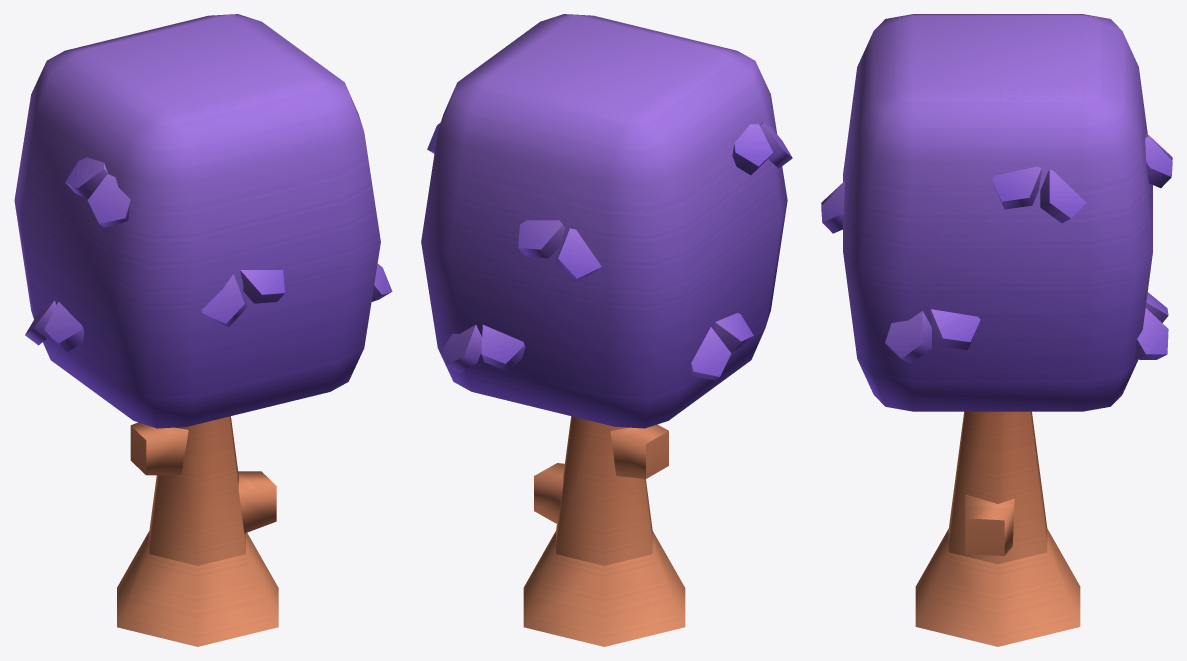
File: arvore roxo.glb
The picture shows the model from 3 angles, left to right: view 1: azimuth 30°, elevation 25°; view 2: azimuth 150°, elevation 25°; view 3: azimuth 270°, elevation 25°; orthographic projection.
Visible parts, largest first — view 1: Group, tree, Group.011, Group.014, Group.013, Group.009, Group.012, Group.010; view 2: Group, tree, Group.007, Group.008, Group.006, Group.012, Group.010, Group.005, Group.009, Group.011; view 3: Group, tree, Group.002, Group.004, Group.001, Group.003, Group.005, Group.007, Group.014.
Part boxes in pixels (left/top/right/bottom): Group: left=14, top=14, right=380, bottom=428; tree: left=117, top=416, right=278, bottom=646; Group.011: left=87, top=174, right=130, bottom=227; Group.014: left=240, top=270, right=284, bottom=303; Group.013: left=201, top=274, right=247, bottom=327; Group.009: left=44, top=301, right=84, bottom=352; Group.012: left=65, top=157, right=107, bottom=198; Group.010: left=25, top=300, right=56, bottom=345; Group: left=421, top=14, right=787, bottom=428; tree: left=523, top=416, right=685, bottom=646; Group.007: left=518, top=220, right=565, bottom=258; Group.008: left=555, top=228, right=601, bottom=281; Group.006: left=481, top=325, right=525, bottom=371; Group.012: left=732, top=124, right=772, bottom=175; Group.010: left=691, top=327, right=731, bottom=380; Group.005: left=443, top=324, right=482, bottom=373; Group.009: left=714, top=313, right=753, bottom=352; Group.011: left=759, top=122, right=792, bottom=168; Group: left=843, top=14, right=1152, bottom=411; tree: left=915, top=411, right=1080, bottom=646; Group.002: left=885, top=311, right=931, bottom=363; Group.004: left=991, top=166, right=1041, bottom=209; Group.001: left=931, top=309, right=980, bottom=349; Group.003: left=1040, top=170, right=1086, bottom=223; Group.005: left=1135, top=308, right=1168, bottom=359; Group.007: left=1145, top=137, right=1172, bottom=188; Group.014: left=821, top=182, right=844, bottom=233.
Bounding box in the file's own units: 1.09 × 1.93 × 1.11.
1 material, 1 textured.
